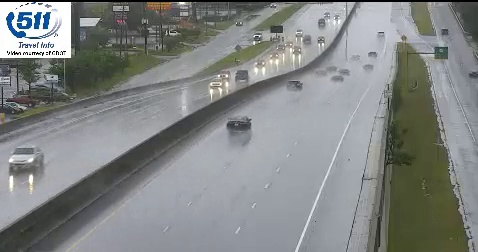car: (227, 115, 251, 131), (286, 80, 302, 91)
